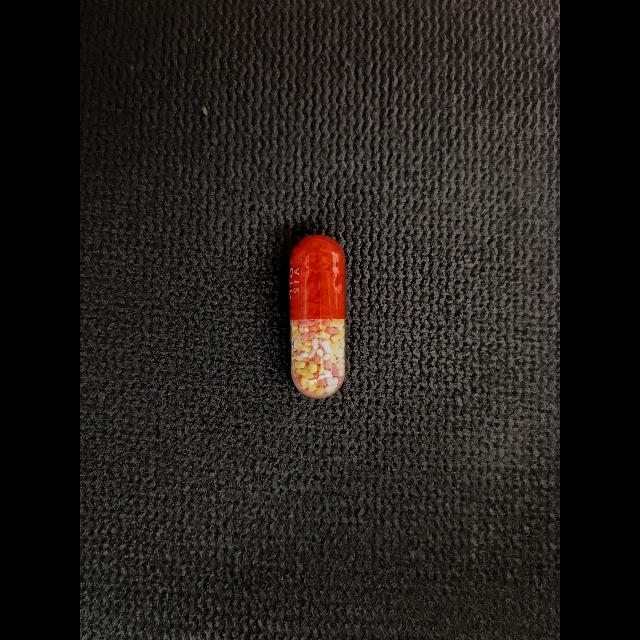Intact Capsule: (289, 235, 345, 398)
